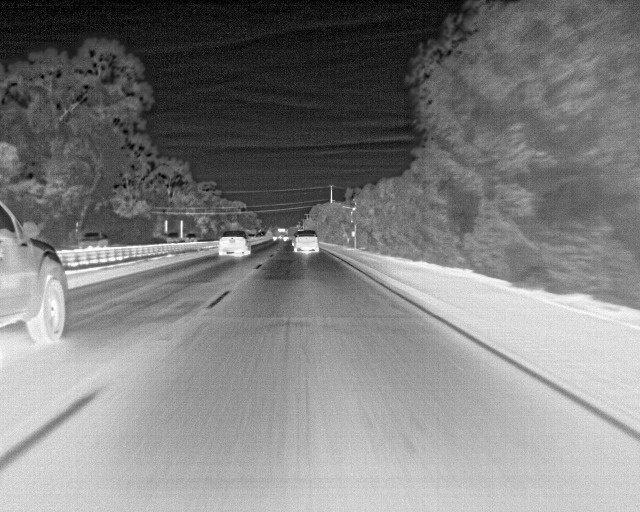vehicle: (1, 199, 66, 351), (219, 230, 252, 258), (293, 229, 319, 258)
